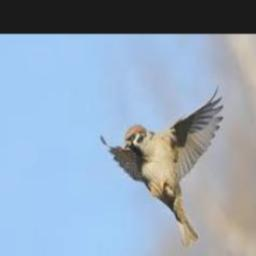Sparrow: (99, 85, 221, 247)
